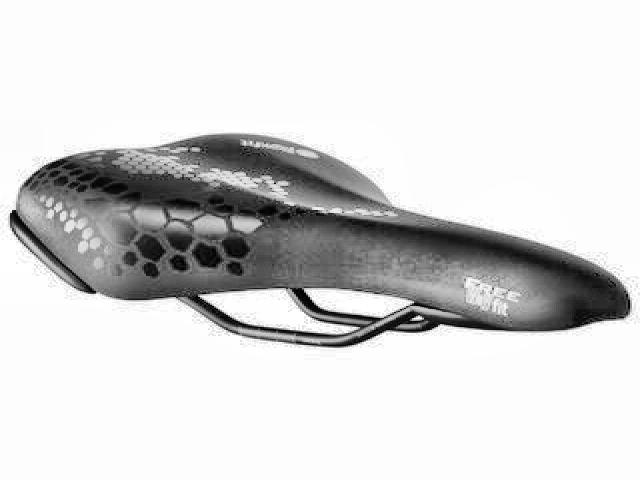saddle: (7, 130, 634, 346)
